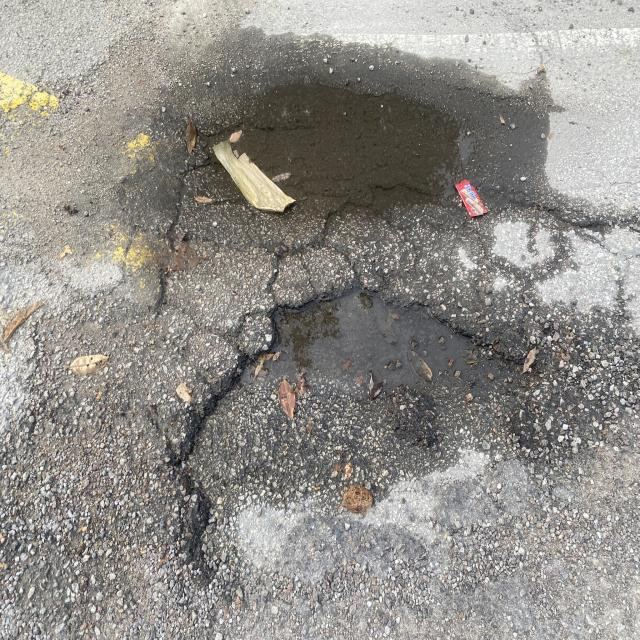pothole: (137, 256, 563, 620)
